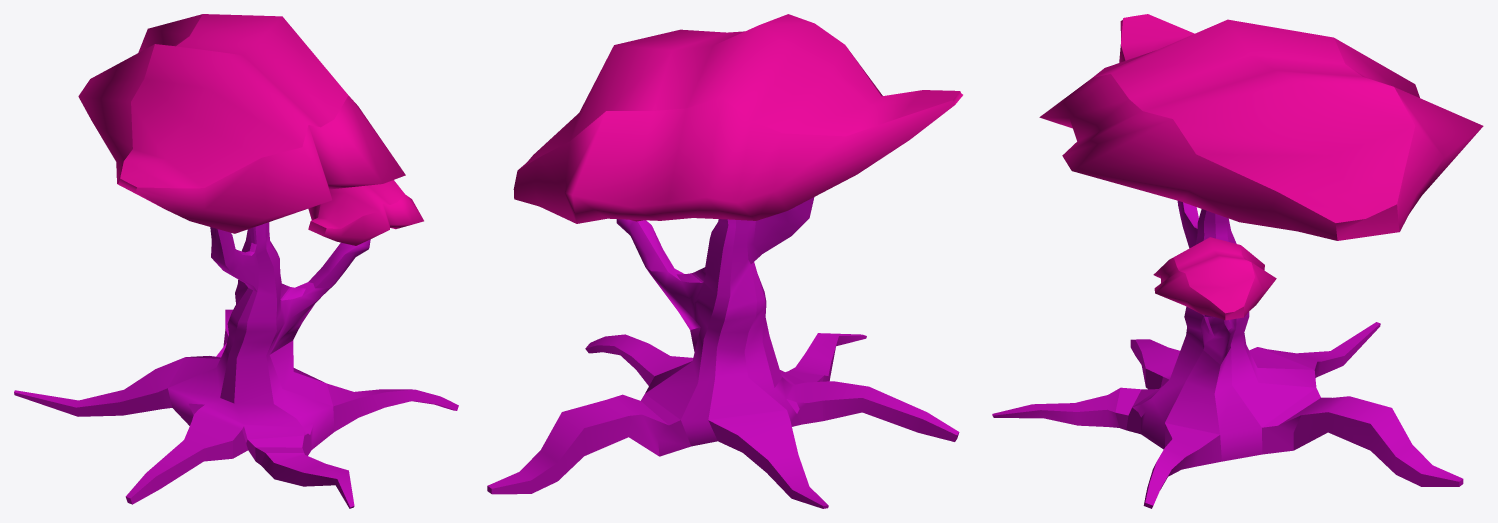
Rendered from WillowFree.fbx.
3 views of the same model, side by side, from view 1: azimuth 30°, elevation 25°; view 2: azimuth 150°, elevation 25°; view 3: azimuth 270°, elevation 25° (orthographic). The views are drawn at different scales.
Parts seen in each view (by area): view 1: polySurface56; view 2: polySurface56; view 3: polySurface56.
Boxes of the visible parts, left/top/right/bottom form: polySurface56: left=14, top=14, right=458, bottom=508; polySurface56: left=487, top=14, right=962, bottom=508; polySurface56: left=992, top=14, right=1483, bottom=508.
Bounding box in the file's own units: 14.04 × 15.37 × 17.
